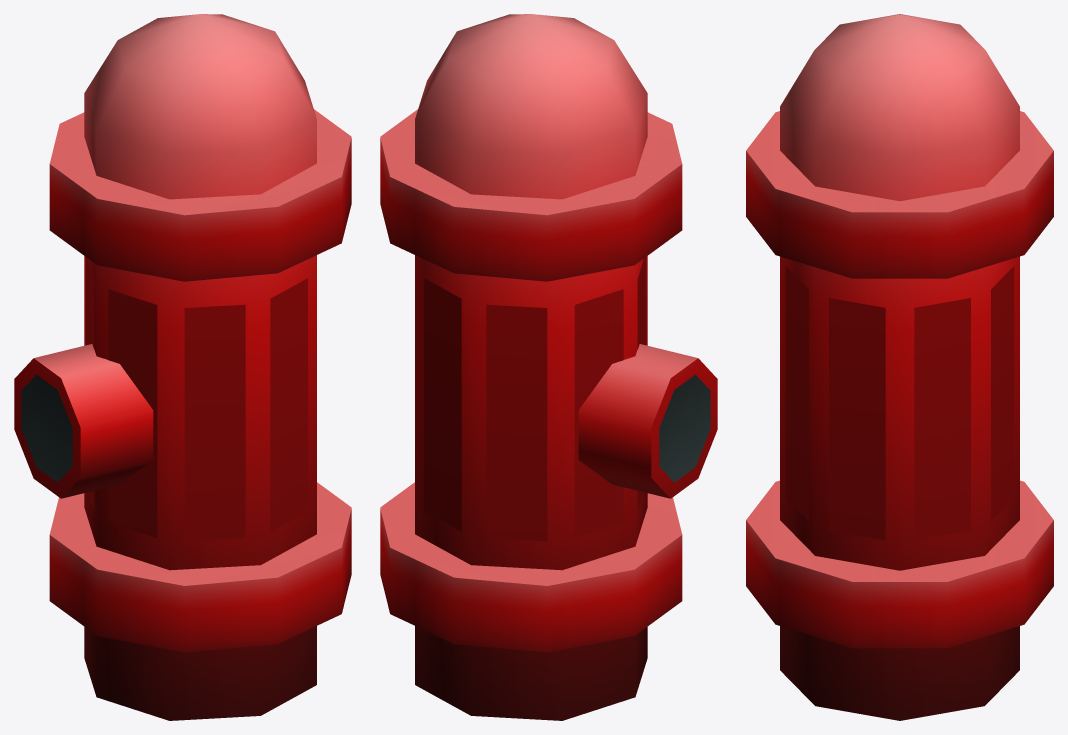
File: Hydrant_1A.fbx
3 views of the same model, side by side, from view 1: azimuth 30°, elevation 25°; view 2: azimuth 150°, elevation 25°; view 3: azimuth 270°, elevation 25° (orthographic).
Visible parts, largest first — view 1: Hydrant_1A; view 2: Hydrant_1A; view 3: Hydrant_1A.
Part boxes in pixels (x1,y1,x2,y2): Hydrant_1A: (14,14,351,720); Hydrant_1A: (380,14,717,720); Hydrant_1A: (746,14,1053,720).
Size of the model in its own units: 0.7328 by 1.64 by 0.6979.
